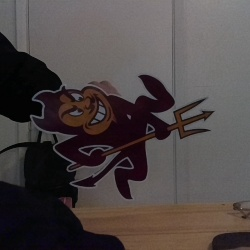sparky: (29, 72, 215, 200)
